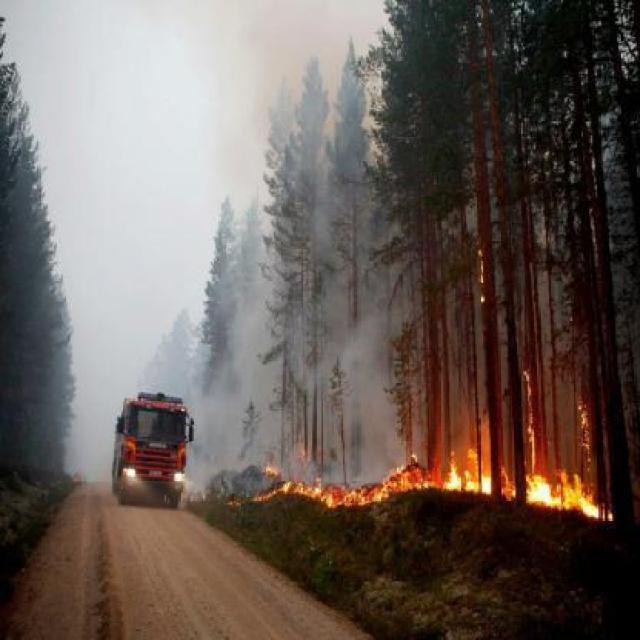Fire: (522, 461, 616, 521), (446, 466, 519, 500), (328, 480, 387, 508), (408, 465, 452, 490), (574, 400, 592, 456), (384, 470, 412, 495), (299, 482, 330, 504), (524, 367, 536, 422), (476, 234, 484, 288), (278, 477, 298, 494)
